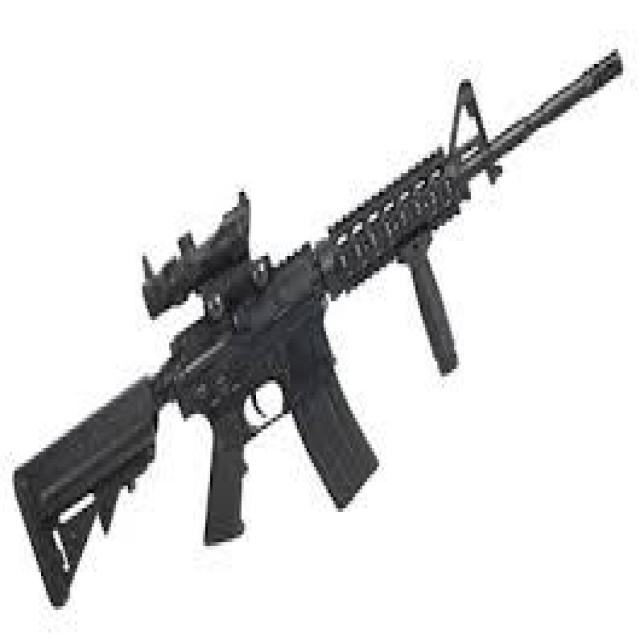rifle: (16, 37, 625, 613)
